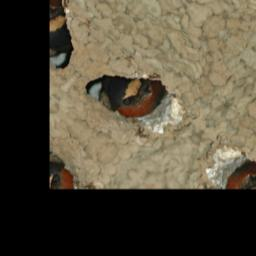Swallow: (91, 52, 173, 129)
